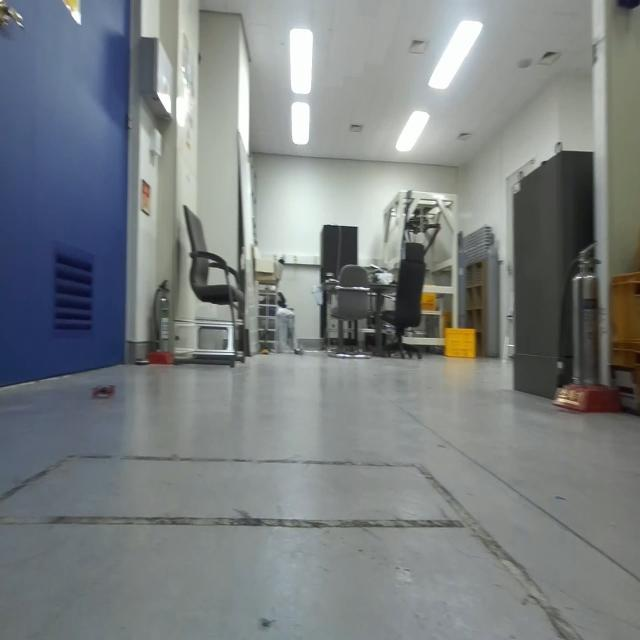crazyflie: (90, 381, 118, 404)
